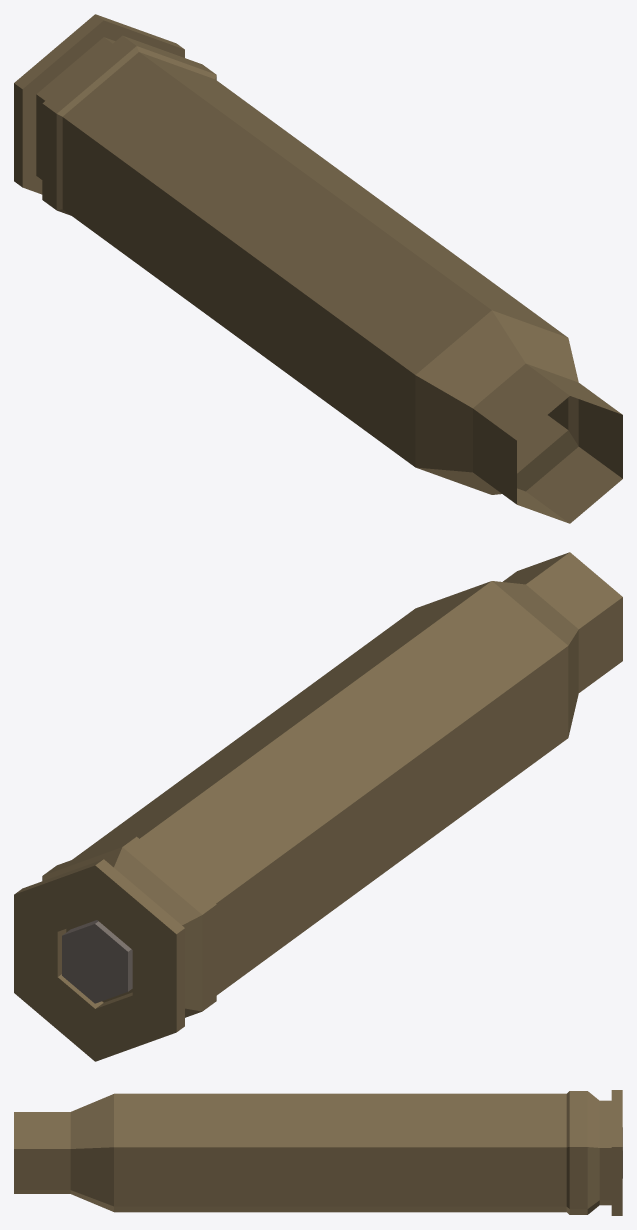
Rendered from SM_DSR-1_Casing.fbx.
3 renders of one model, top to bottom at view 1: azimuth 30°, elevation 25°; view 2: azimuth 150°, elevation 25°; view 3: azimuth 270°, elevation 25°, orthographic. The views are drawn at different scales.
Visible parts, largest first — view 1: SM_DSR-1_Casing; view 2: SM_DSR-1_Casing; view 3: SM_DSR-1_Casing.
Part boxes in pixels (box(x1,y1,x2,y2)): SM_DSR-1_Casing: box(14, 14, 622, 523); SM_DSR-1_Casing: box(14, 552, 622, 1061); SM_DSR-1_Casing: box(14, 1090, 622, 1215).
Bounding box in the file's own units: 1.3 × 1.51 × 6.6.
